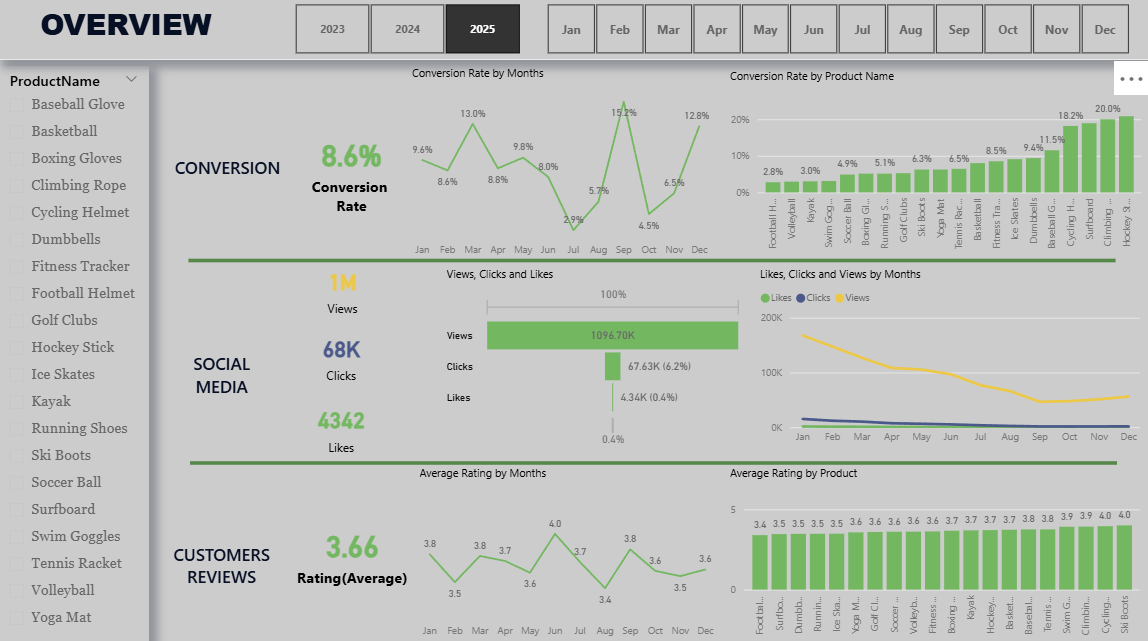

This screenshot's page, from the dashboard's own definition file:
{"tool":"powerbi","page":{"name":"Overview","canvas":[1280,720],"ordinal":0},"visuals":[{"type":"shape","box":[213.3,373.3,1030,286.7],"z":0},{"type":"shape","box":[211.7,148.3,1030,286.7],"z":1000},{"type":"textbox","box":[0,0,1280,68.2],"z":2000},{"type":"slicer","fields":{"Values":["dim_products.ProductName"]},"box":[0,75.6,167.2,643.3],"z":3000},{"type":"textbox","box":[182.9,76.3,143.2,213.1],"z":4000},{"type":"textbox","box":[176.4,525.5,143.6,194.5],"z":5000},{"type":"textbox","box":[176.4,294.5,143.6,225.5],"z":6000},{"type":"card","fields":{"Values":["_measure.Conversion Rate"]},"box":[330,75,125,215],"z":7000},{"type":"card","title":"VIEWS","fields":{"Values":["_measure.Views"]},"box":[304.9,289.1,154.6,70.8],"z":8000},{"type":"card","title":"CLICKS","fields":{"Values":["_measure.Clicks"]},"box":[303.3,359.9,155.5,76.4],"z":9000},{"type":"card","title":"LIKES","fields":{"Values":["_measure.Likes"]},"box":[303.3,439.9,155.5,74.5],"z":10000},{"type":"card","fields":{"Values":["_measure.Rating(Average)"]},"box":[315,520,156.7,195],"z":11000},{"type":"slicer","fields":{"Values":["Calendar.Date.Variation.Date Hierarchy.Year"]},"box":[305,0,298.3,68.3],"z":12000},{"type":"slicer","fields":{"Values":["Calendar.MonthNameShort"]},"box":[585,0,695,68.3],"z":13000},{"type":"lineChart","title":"Conversion Rate by Months","fields":{"Y":["_measure.Conversion Rate"],"Category":["Calendar.MonthNameShort"]},"box":[455,75,340,221.7],"z":14000},{"type":"clusteredColumnChart","title":"Conversion Rate by Product Name","fields":{"Category":["dim_products.ProductName"],"Y":["_measure.Conversion Rate"]},"box":[808.3,78.3,466.7,213.3],"z":15000},{"type":"lineChart","title":"Likes, Clicks and Views by Months","fields":{"Category":["Calendar.MonthNameShort"],"Y":["_measure.Likes","_measure.Clicks","_measure.Views"]},"box":[841.2,298.8,432.5,206.2],"z":16000},{"type":"funnel","fields":{"Y":["_measure.Views","_measure.Clicks","_measure.Likes"]},"box":[493.1,299,338.8,205.2],"z":17000},{"type":"lineChart","title":"Average Rating by Months","fields":{"Category":["Calendar.MonthNameShort"],"Y":["_measure.Rating(Average)"]},"box":[463.3,520,338.3,200],"z":18000},{"type":"clusteredColumnChart","title":"Average Rating by Product","fields":{"Category":["dim_products.ProductName"],"Y":["_measure.Rating(Average)"]},"box":[808.3,520,465,200],"z":19000}]}

Visuals, with their boxes in screenshot pixels (x1, y1, x2, y2), scaled from the page's 1280x720 canvas onto the 1148x641 screenshot:
shape: box(191, 332, 1115, 588)
shape: box(190, 132, 1114, 387)
textbox: box(0, 0, 1147, 61)
slicer - dim_products.ProductName: box(0, 67, 150, 640)
textbox: box(164, 68, 292, 258)
textbox: box(158, 468, 287, 640)
textbox: box(158, 262, 287, 463)
card - _measure.Conversion Rate: box(296, 67, 408, 258)
"VIEWS" card: box(273, 257, 412, 320)
"CLICKS" card: box(272, 320, 411, 388)
"LIKES" card: box(272, 392, 411, 458)
card - _measure.Rating(Average): box(283, 463, 423, 637)
slicer - Calendar.Date.Variation.Date Hierarchy.Year: box(274, 0, 541, 61)
slicer - Calendar.MonthNameShort: box(525, 0, 1147, 61)
"Conversion Rate by Months" lineChart: box(408, 67, 713, 264)
"Conversion Rate by Product Name" clusteredColumnChart: box(725, 70, 1144, 260)
"Likes, Clicks and Views by Months" lineChart: box(754, 266, 1142, 450)
funnel - _measure.Views x _measure.Clicks: box(442, 266, 746, 449)
"Average Rating by Months" lineChart: box(416, 463, 719, 640)
"Average Rating by Product" clusteredColumnChart: box(725, 463, 1142, 640)
